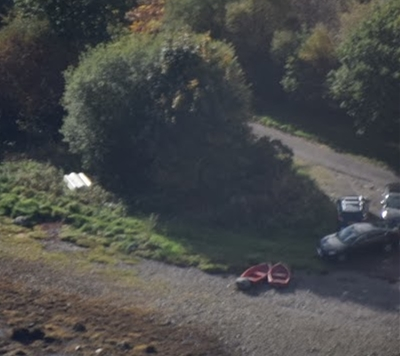boat_cabin: (235, 255, 272, 287), (263, 257, 295, 288)
white_in_green: (42, 151, 120, 209)
